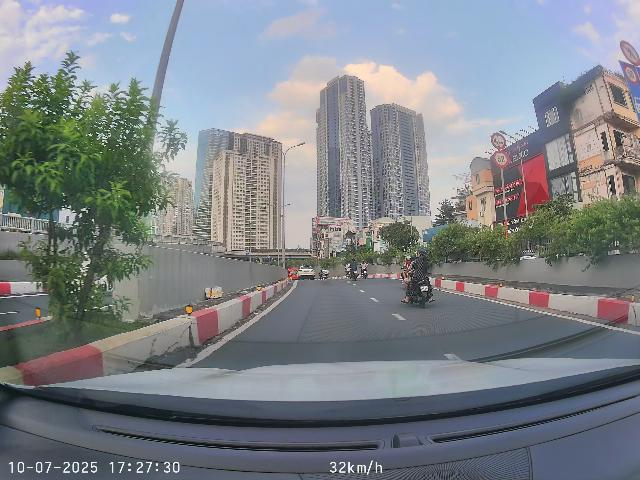127-toc-do-toi-da-50: (493, 151, 508, 168)
